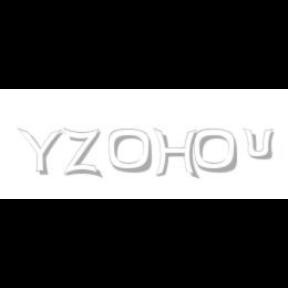H: (153, 128, 199, 180)
O: (108, 128, 154, 174), (194, 128, 238, 174)
Y: (17, 128, 63, 176)
Z: (64, 128, 100, 178)
u: (243, 128, 278, 160)
